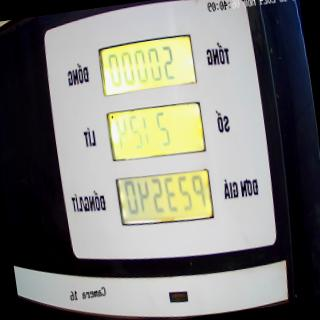screen: (93, 30, 218, 233)
